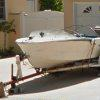Boat: (8, 25, 100, 71)
